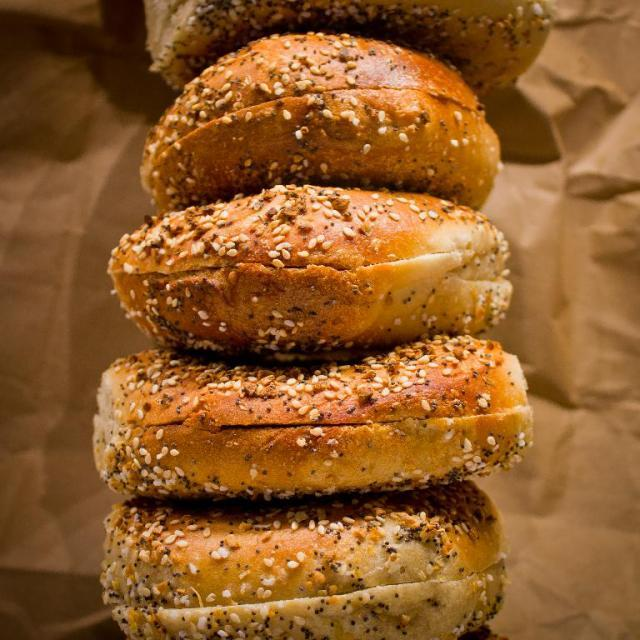Bagel: (108, 176, 520, 353), (91, 339, 538, 498), (140, 32, 502, 212), (102, 482, 510, 640), (148, 0, 556, 104)
